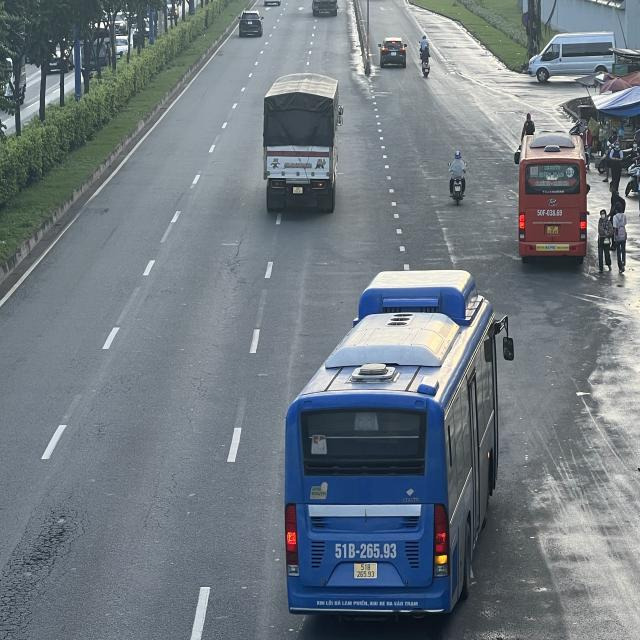car: (379, 36, 408, 68), (240, 8, 264, 37)
coach: (287, 268, 510, 620), (518, 125, 587, 263)
truck: (263, 74, 345, 212)
van: (526, 30, 616, 84)
